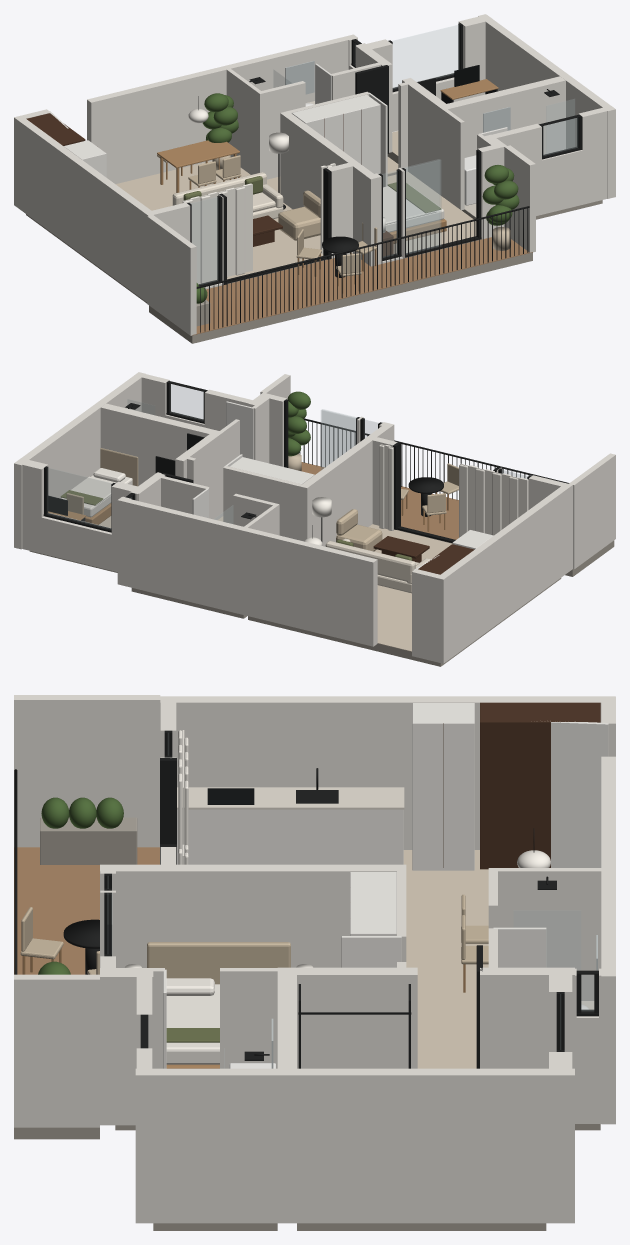
The model's file is apt-2.glb.
3 views of the same model, one above another, from view 1: azimuth 30°, elevation 25°; view 2: azimuth 150°, elevation 25°; view 3: azimuth 270°, elevation 25° (orthographic). The views are drawn at different scales.
Visible parts, largest first — view 1: Wall living-W, Wall N-entry.001, Floor | balcony, Wall master-W, Wall mamad-E, Wall mamad-S, Parapet 1, master wardrobe 14 | body, Floor | living, Wall mamad-W.001, Slab | balcony, mamad-N window 0 | glazing (+47 smaller); view 2: Wall N-entry.001, Wall living-W, Wall mamad-E, Wall master-W, Wall mamad-S, Parapet 1, Wall master-N, mamad-N window 0 | glazing, Floor | living, Wall N-entry, mamad-N window 0 | sill wall, Wall mamad-W.001 (+40 smaller); view 3: Wall mamad-E, Wall living-W, Wall master-W, Parapet 1, Parapet 2, Kitchen tall pantry | body, living kitchen_run 0 | bases, Wall mamad-W.001, Kitchen fridge column | body, Floor | living, Wall bath1-W, N-entry door 0 | leaf (+36 smaller).
Part boxes in pixels (x1=…): Wall living-W: x1=14, y1=115, x2=156, y2=302; Wall N-entry.001: x1=87, y1=34, x2=357, y2=184; Floor | balcony: x1=192, y1=237, x2=532, y2=335; Wall master-W: x1=280, y1=111, x2=378, y2=266; Wall mamad-E: x1=478, y1=14, x2=615, y2=198; Wall mamad-S: x1=446, y1=76, x2=565, y2=157; Parapet 1: x1=147, y1=215, x2=196, y2=335; master wardrobe 14 | body: x1=292, y1=94, x2=380, y2=173; Floor | living: x1=116, y1=161, x2=323, y2=284; Wall mamad-W.001: x1=402, y1=78, x2=452, y2=197; Slab | balcony: x1=149, y1=252, x2=532, y2=343; mamad-N window 0 | glazing: x1=392, y1=25, x2=458, y2=88; Wall N-entry.001: x1=117, y1=497, x2=377, y2=646; Wall living-W: x1=436, y1=483, x2=572, y2=663; Wall mamad-E: x1=14, y1=372, x2=145, y2=549; Wall master-W: x1=300, y1=422, x2=393, y2=546; Wall mamad-S: x1=100, y1=403, x2=214, y2=485; Parapet 1: x1=569, y1=453, x2=615, y2=569; Wall master-N: x1=223, y1=466, x2=303, y2=540; mamad-N window 0 | glazing: x1=47, y1=468, x2=111, y2=528; Floor | living: x1=368, y1=524, x2=452, y2=651; Wall N-entry: x1=412, y1=569, x2=443, y2=663; mamad-N window 0 | sill wall: x1=41, y1=513, x2=111, y2=570; Wall mamad-W.001: x1=175, y1=430, x2=223, y2=520; Wall mamad-E: x1=135, y1=1068, x2=574, y2=1223; Wall living-W: x1=160, y1=696, x2=615, y2=849; Wall master-W: x1=100, y1=864, x2=406, y2=967; Parapet 1: x1=14, y1=695, x2=160, y2=847; Parapet 2: x1=14, y1=974, x2=99, y2=1127; Kitchen tall pantry | body: x1=480, y1=702, x2=600, y2=869; living kitchen_run 0 | bases: x1=177, y1=809, x2=403, y2=864; Wall mamad-W.001: x1=277, y1=967, x2=417, y2=1068; Kitchen fridge column | body: x1=412, y1=703, x2=474, y2=870; Floor | living: x1=403, y1=850, x2=488, y2=1015; Wall bath1-W: x1=489, y1=868, x2=608, y2=1000; N-entry door 0 | leaf: x1=550, y1=721, x2=608, y2=867.
Size of the model in its own units: 11.55 by 2.3 by 7.73.
